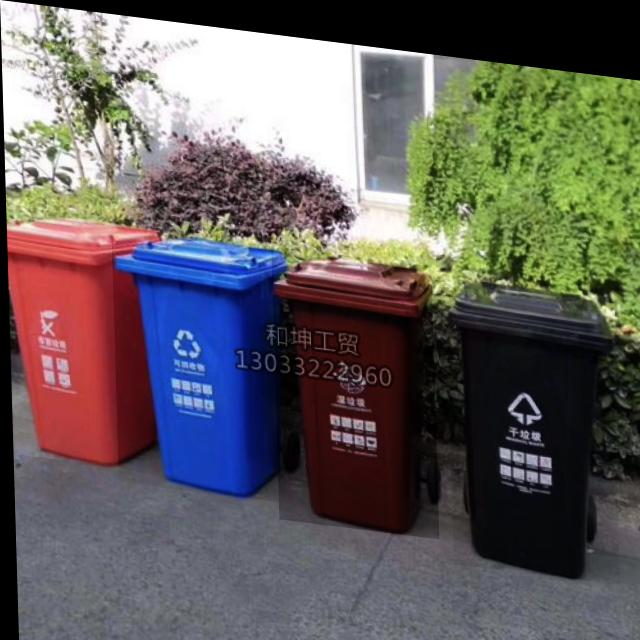garbage_bin: (444, 265, 617, 569), (110, 223, 289, 497), (270, 239, 436, 528), (6, 210, 164, 469)
